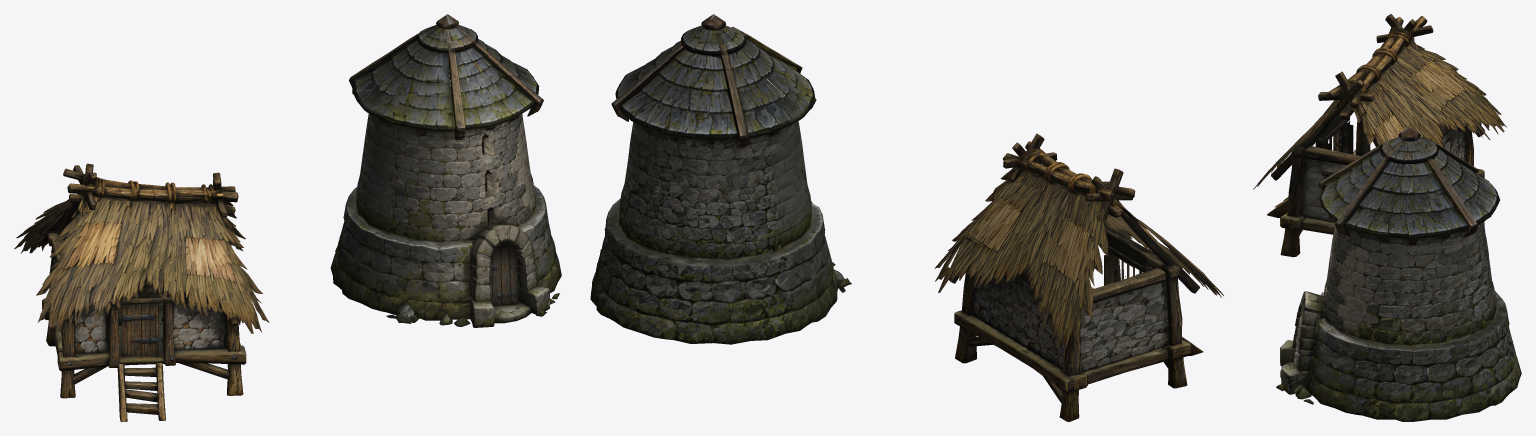
File: act1_kit_v1_R01_lychgate_cottage_ossuary.glb
The picture shows the model from 3 angles, left to right: view 1: azimuth 30°, elevation 25°; view 2: azimuth 150°, elevation 25°; view 3: azimuth 270°, elevation 25°; orthographic projection. The views are drawn at different scales.
Parts seen in each view (by area): view 1: fd3fe708_e131_4bbd_a69a_13fede37e639; view 2: fd3fe708_e131_4bbd_a69a_13fede37e639; view 3: fd3fe708_e131_4bbd_a69a_13fede37e639.
Part boxes in pixels (<box>): fd3fe708_e131_4bbd_a69a_13fede37e639: <box>14,14,561,421</box>; fd3fe708_e131_4bbd_a69a_13fede37e639: <box>590,14,1223,421</box>; fd3fe708_e131_4bbd_a69a_13fede37e639: <box>1253,14,1521,421</box>.
Size of the model in its own units: 0.9995 by 0.4692 by 0.4458.
1 material, 1 textured.
